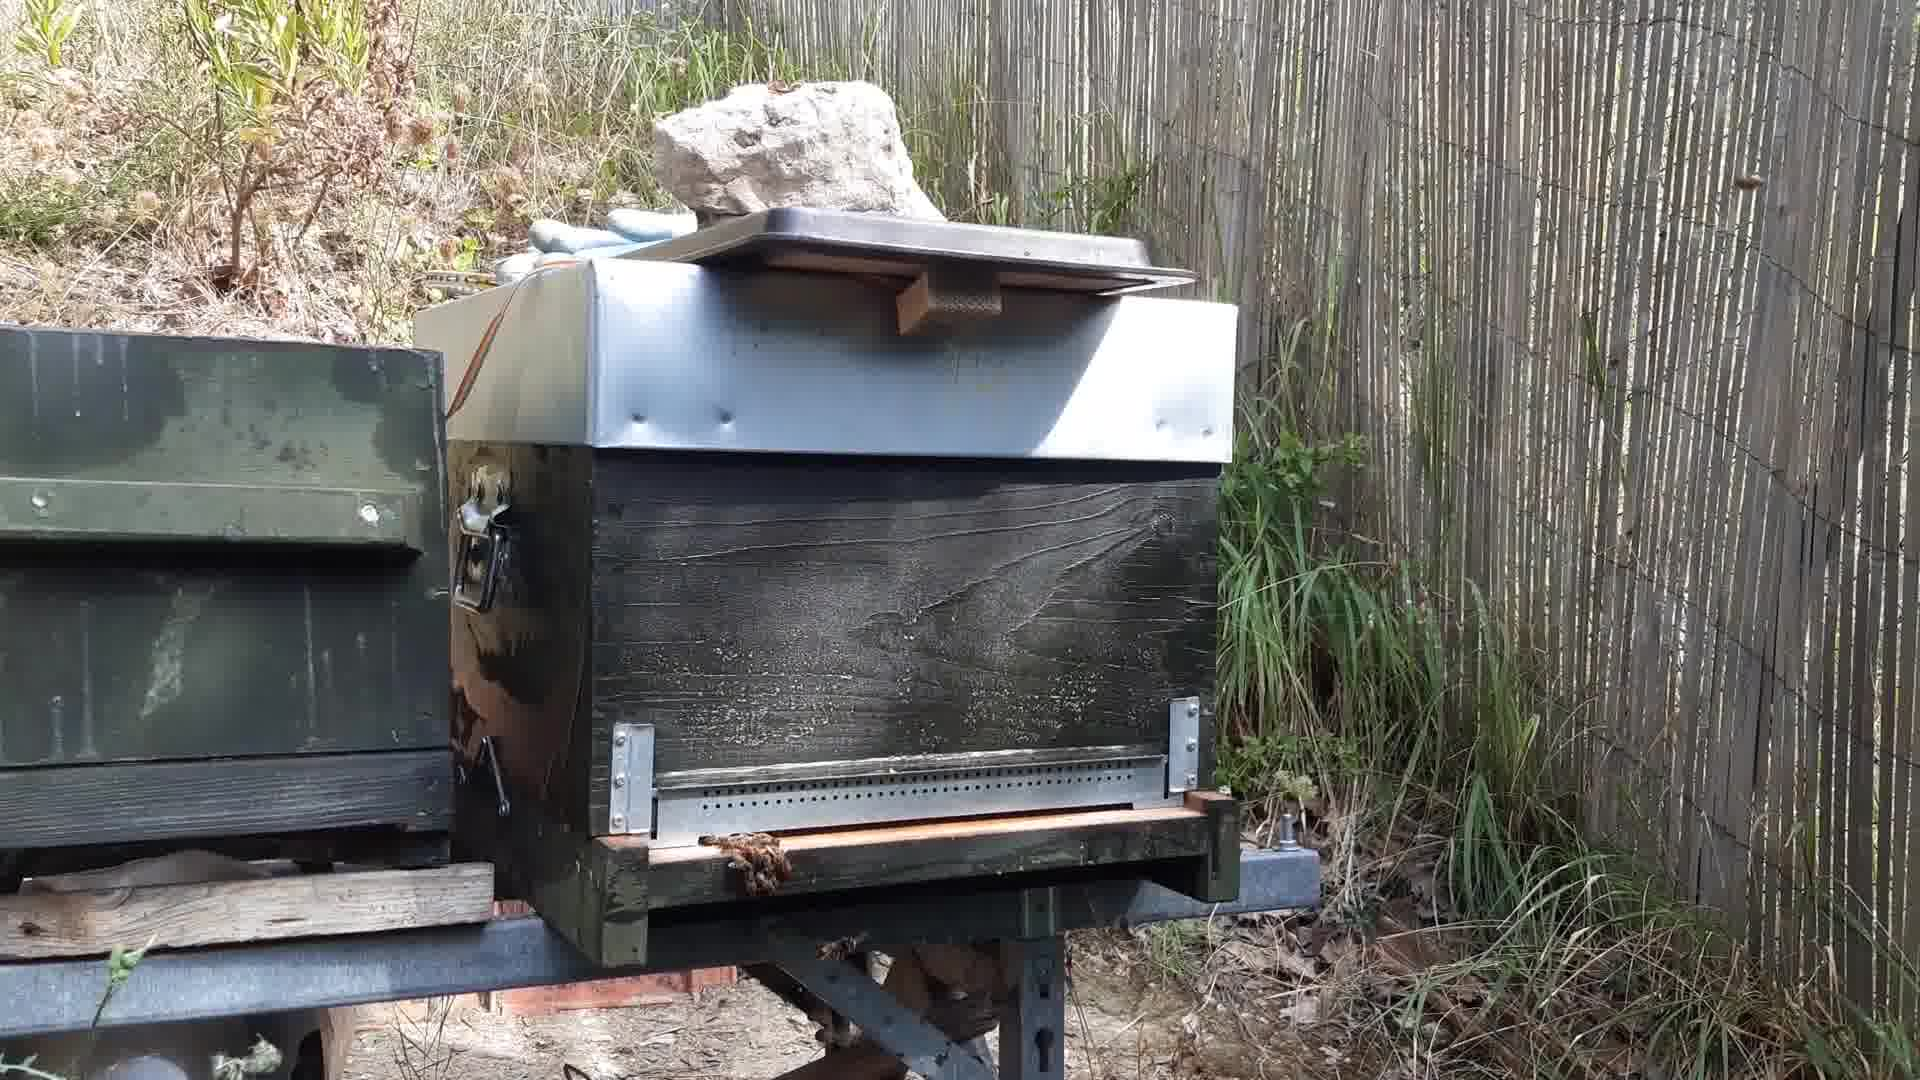bee: (713, 829, 793, 899)
hornet: (816, 934, 860, 965)
